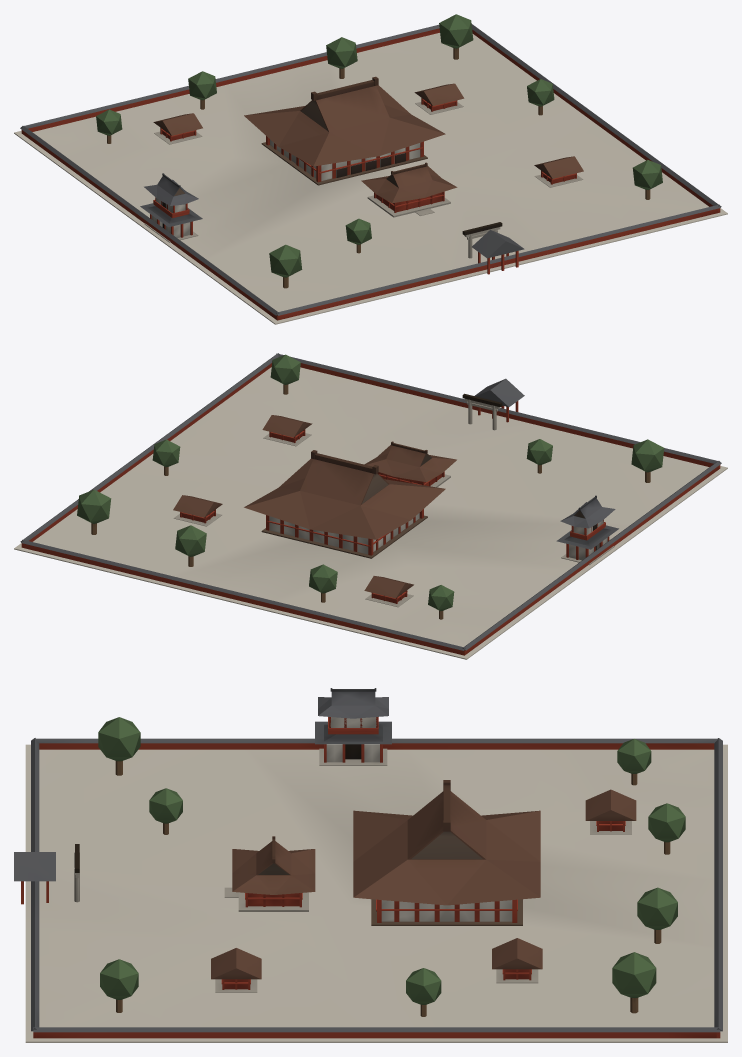
Rendered from yasaka-shrine.glb.
3 renders of one model, top to bottom at view 1: azimuth 30°, elevation 25°; view 2: azimuth 150°, elevation 25°; view 3: azimuth 270°, elevation 25°, orthographic. The views are drawn at different scales.
Parts seen in each view (by area): view 1: p0_grounds, p2_roofs, p1_halls; view 2: p0_grounds, p2_roofs, p1_halls; view 3: p0_grounds, p2_roofs, p1_halls.
Boxes of the visible parts, x1=… form: p0_grounds: x1=14, y1=24, x2=727, y2=324; p2_roofs: x1=96, y1=14, x2=662, y2=288; p1_halls: x1=144, y1=98, x2=583, y2=274; p0_grounds: x1=14, y1=353, x2=727, y2=659; p2_roofs: x1=77, y1=354, x2=664, y2=619; p1_halls: x1=173, y1=378, x2=614, y2=607; p0_grounds: x1=25, y1=738, x2=727, y2=1042; p2_roofs: x1=98, y1=688, x2=685, y2=1016; p1_halls: x1=14, y1=717, x2=631, y2=992.
Size of the model in its own units: 150 by 21.94 by 152.
